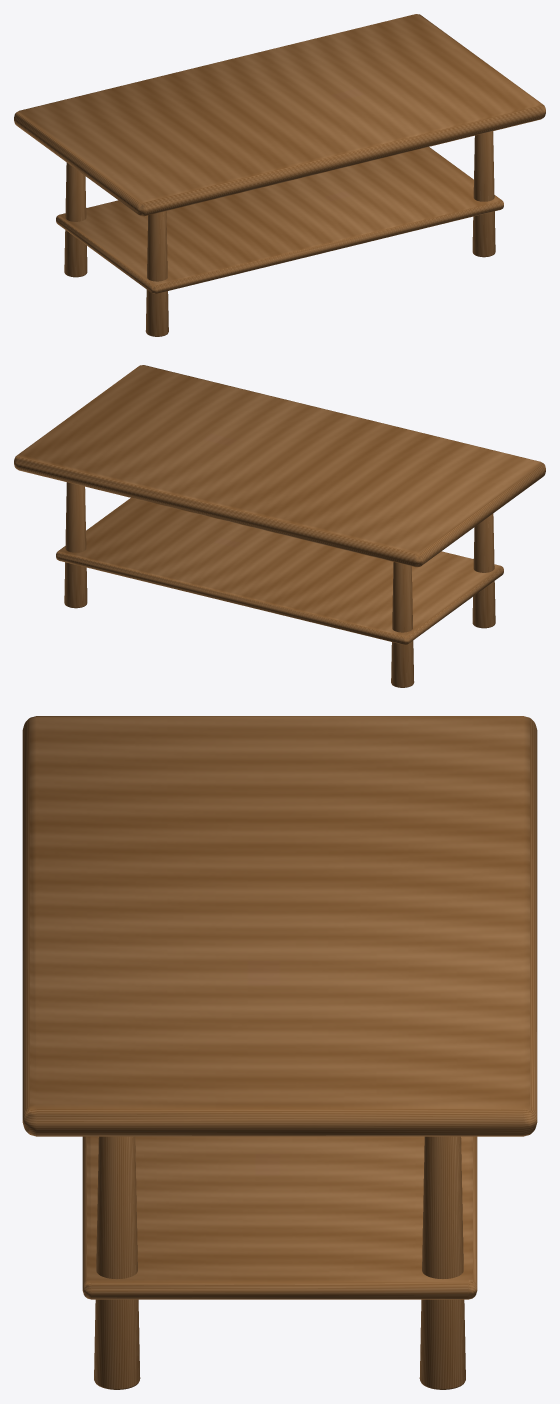
Rendered from table-coffee.glb.
3 renders of one model, top to bottom at view 1: azimuth 30°, elevation 25°; view 2: azimuth 150°, elevation 25°; view 3: azimuth 270°, elevation 25°, orthographic. The views are drawn at different scales.
Visible parts, largest first — view 1: table-coffee-mesh; view 2: table-coffee-mesh; view 3: table-coffee-mesh.
Part boxes in pixels (box(x1,y1,x2,y2)): table-coffee-mesh: box(14, 14, 545, 336); table-coffee-mesh: box(14, 365, 545, 687); table-coffee-mesh: box(22, 716, 537, 1389).
Size of the model in its own units: 1.1 by 0.4 by 0.6.
Materials: 1 (1 with a texture image).
